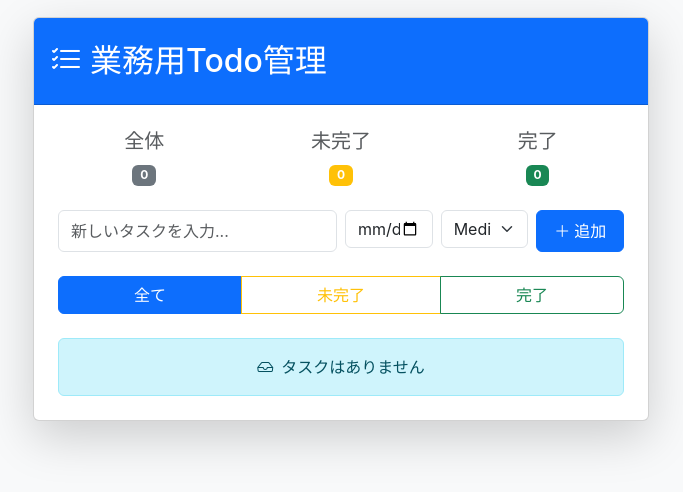
Test: TodoApp コンポーネント › 期限と優先度を指定してタスクが保存される
This screenshot has width=683, height=492.
Type "期限付きタスク" into the field with placeholder "新しいタスクを入力...". click: [198, 231]
box: [58,210,337,252]
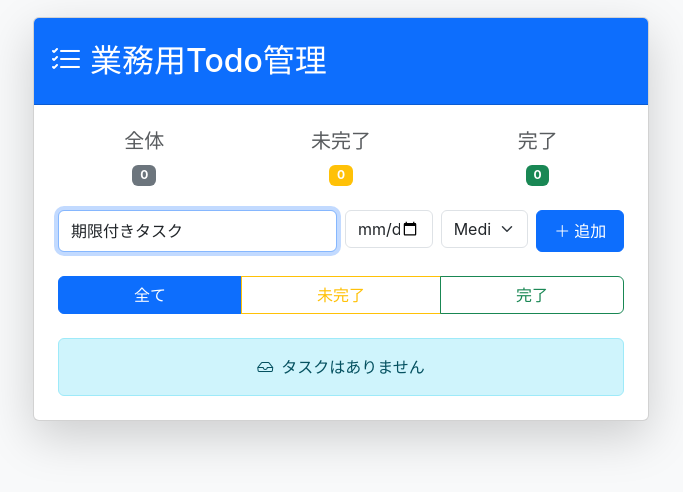
Type "2025-12-31" into the date field named "due-date". click: [389, 229]
box: [345,210,433,248]
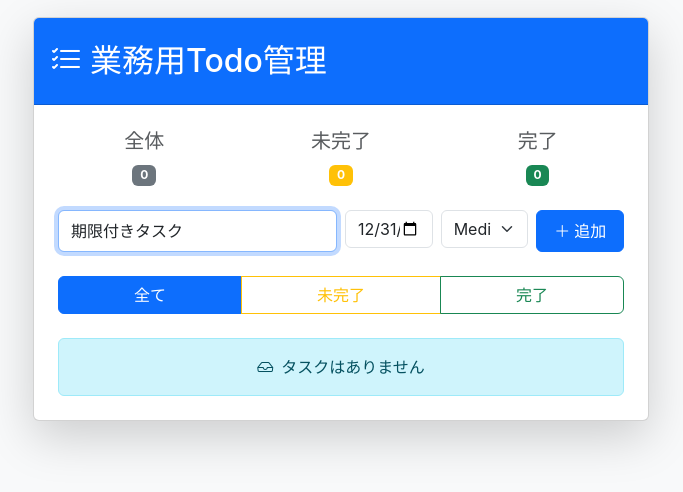
Select "High" in the dropdown named "priority-select". click: [485, 229]
box: [441,210,528,248]
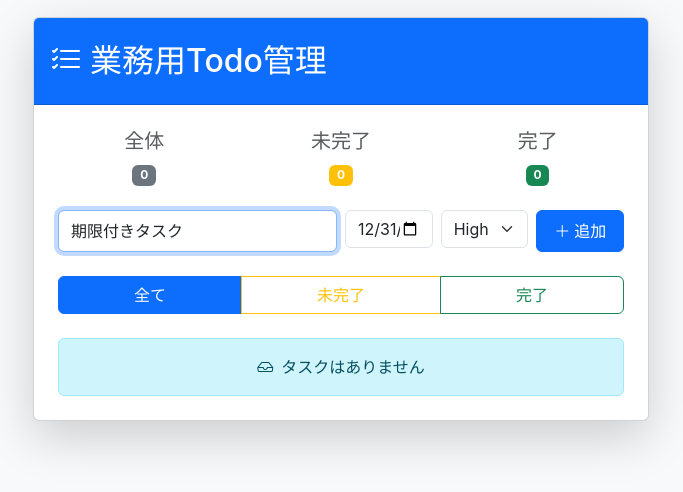
Click the button "追加". click: [580, 231]
box: [536,210,624,252]
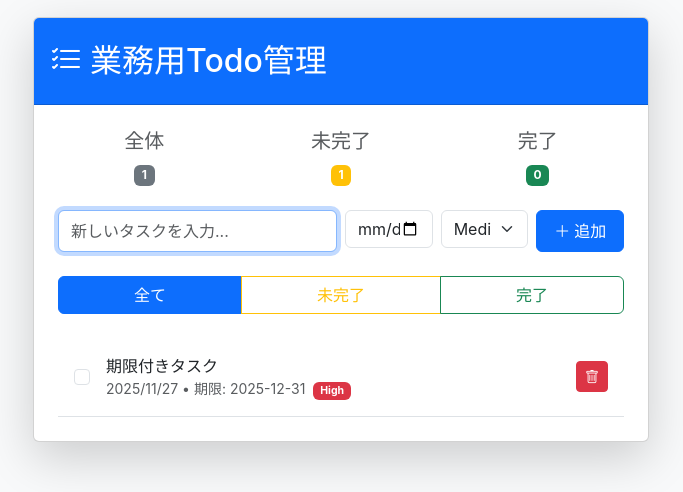
Now the text "2025/11/27 • 期限: 2025-12-31 High" is shown, box [106,380,351,400]
